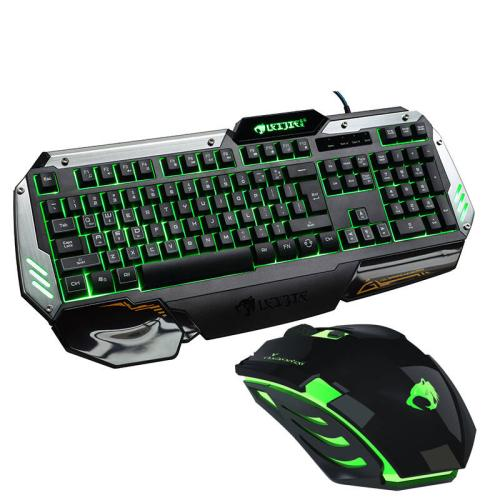keyboard: (12, 105, 474, 368)
mouse: (237, 324, 476, 489)
